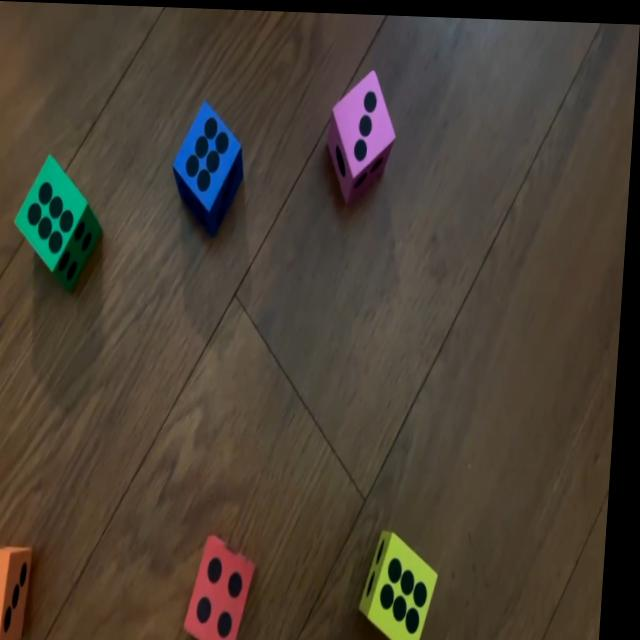blue_block: (170, 96, 246, 232)
red_block: (192, 529, 265, 640)
